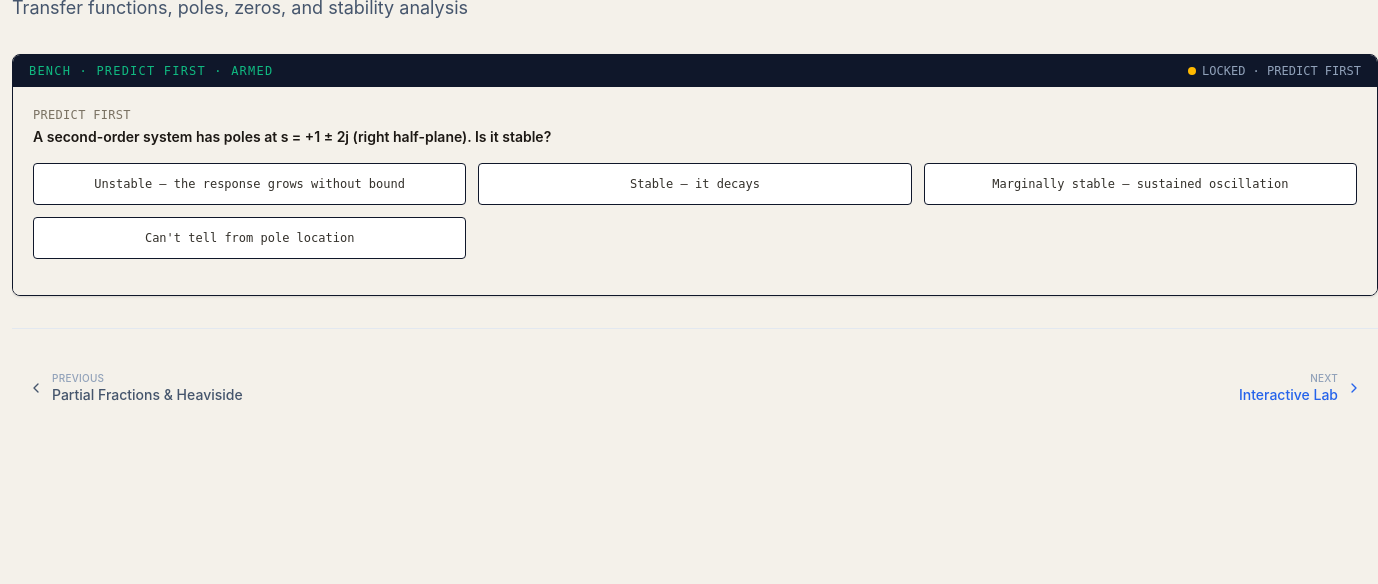
it: SDomainAnalysis page › has a concept check with multiple choice
Click the button "Unstable — the response grows without bound" at (250, 184), box [33,162,466,204]
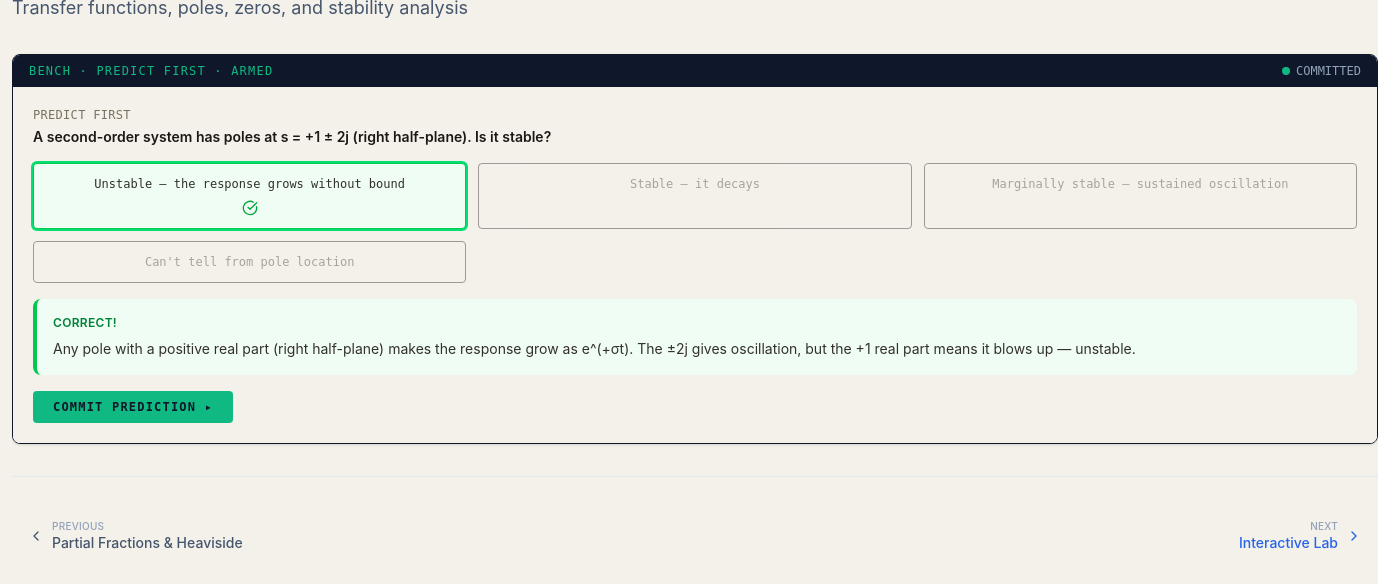
Click the button "COMMIT PREDICTION ▸" at (133, 406), box [33,390,233,422]
(page scrolled)
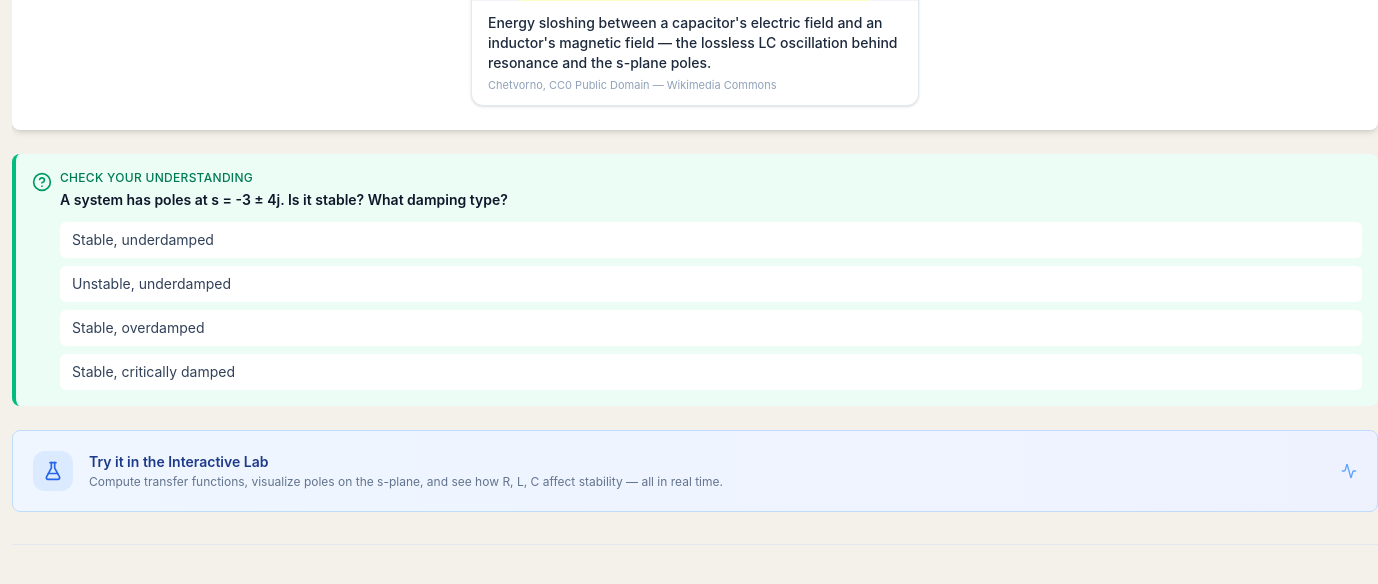
Check: the text "poles at s = -3" is shown, box [60,191,508,208]
